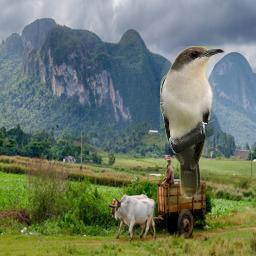Cuckoo: (160, 46, 225, 200)
